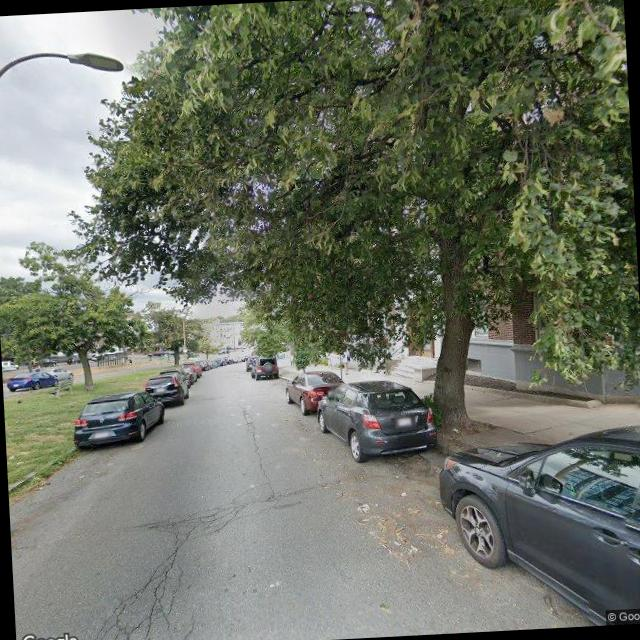crack: (74, 485, 284, 640)
pothole: (242, 405, 270, 482)
